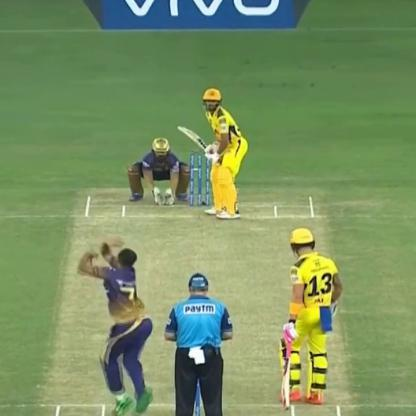bat: (272, 330, 298, 409), (175, 120, 213, 156)
pitch: (48, 186, 350, 416)
